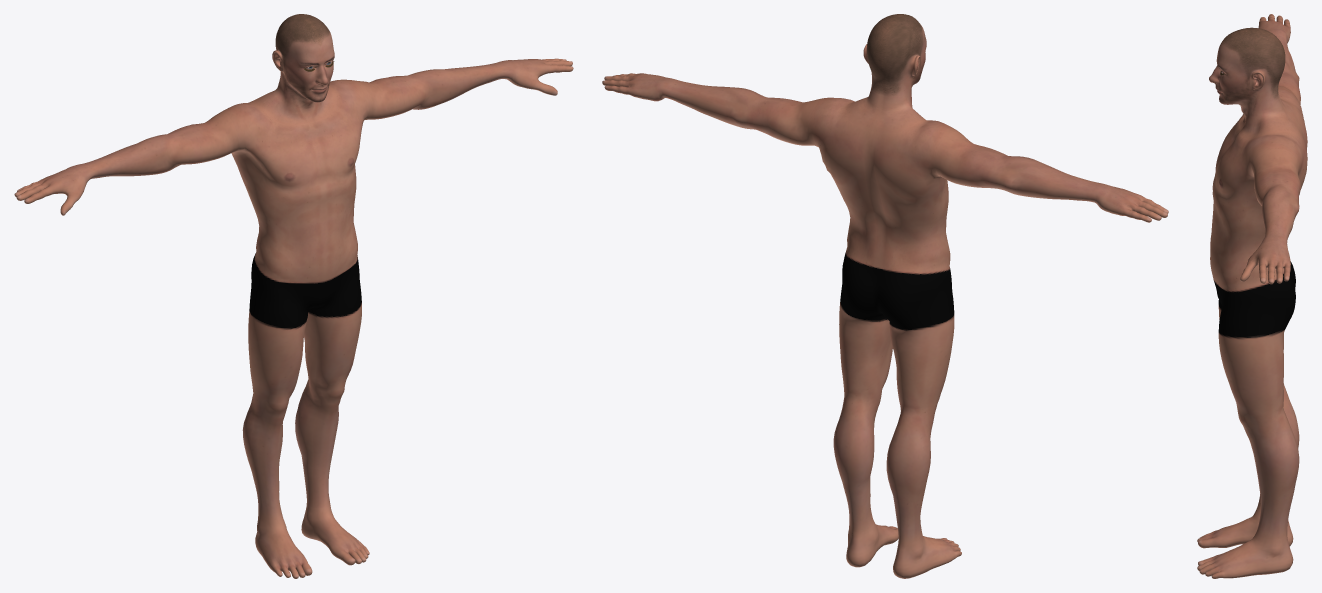
File: MaleModelParts.obj
3 renders of one model, left to right at view 1: azimuth 30°, elevation 25°; view 2: azimuth 150°, elevation 25°; view 3: azimuth 270°, elevation 25°, orthographic. The views are drawn at different scales.
Parts seen in each view (by area): view 1: Body; view 2: Body; view 3: Body.
Boxes of the visible parts, <box> form: Body: <box>14,14,573,578</box>; Body: <box>602,14,1168,578</box>; Body: <box>1197,14,1307,578</box>.
Bounding box in the file's own units: 194 × 179 × 33.79.
Materials: 1 (1 with a texture image).
